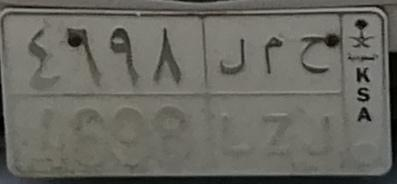4: (22, 25, 68, 170)
6: (64, 26, 108, 169)
8: (152, 28, 192, 167)
9: (106, 26, 148, 169)
J: (300, 32, 334, 158)
L: (217, 37, 256, 159)
Z: (262, 35, 295, 159)
